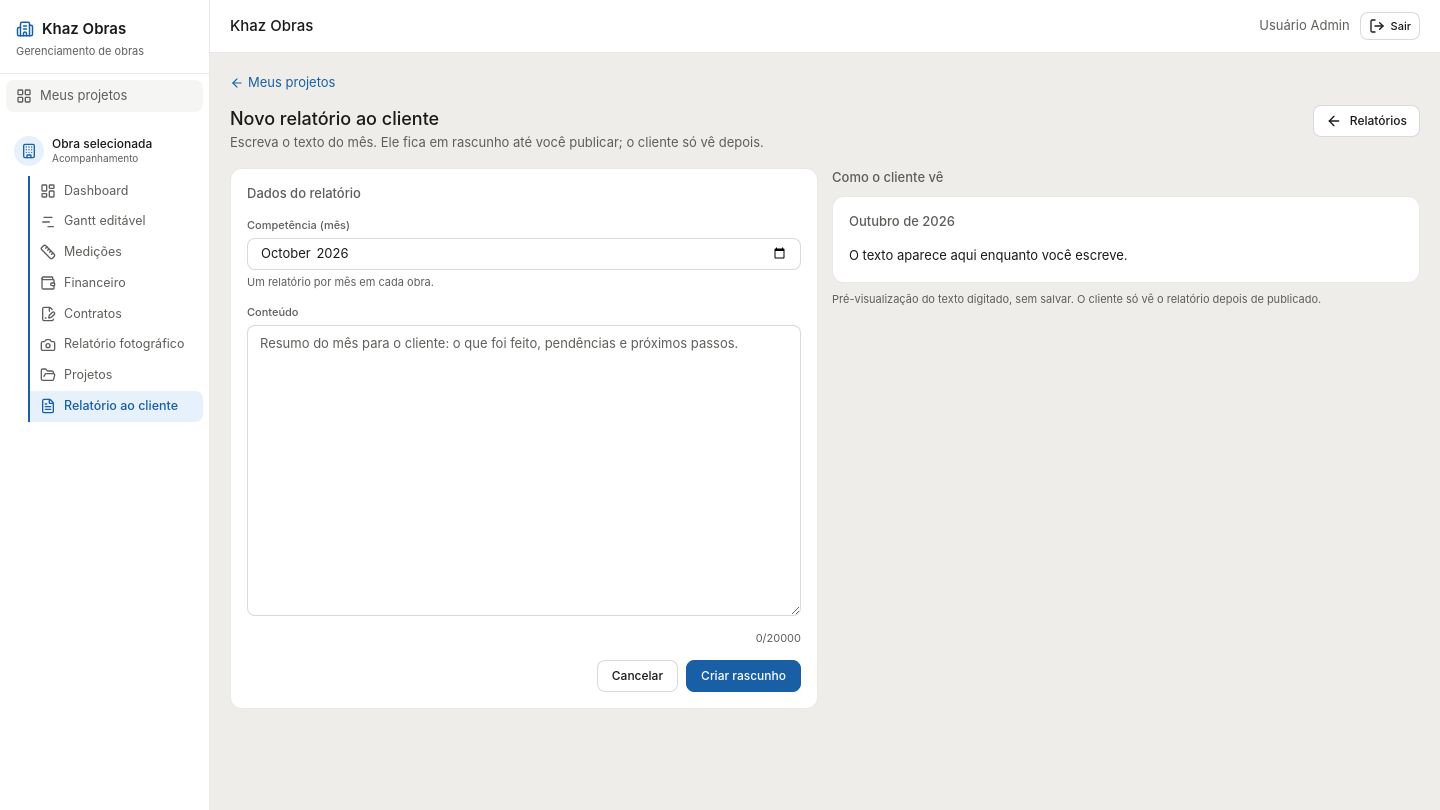
Relatório ao cliente (admin) - menu › o item do menu leva à lista a partir de outra tela da obra
Check: the text box labelled "Conteúdo" is shown, box [247,325,801,616]
Click the link "Relatório ao cliente" at (116, 406), box [30,391,203,422]
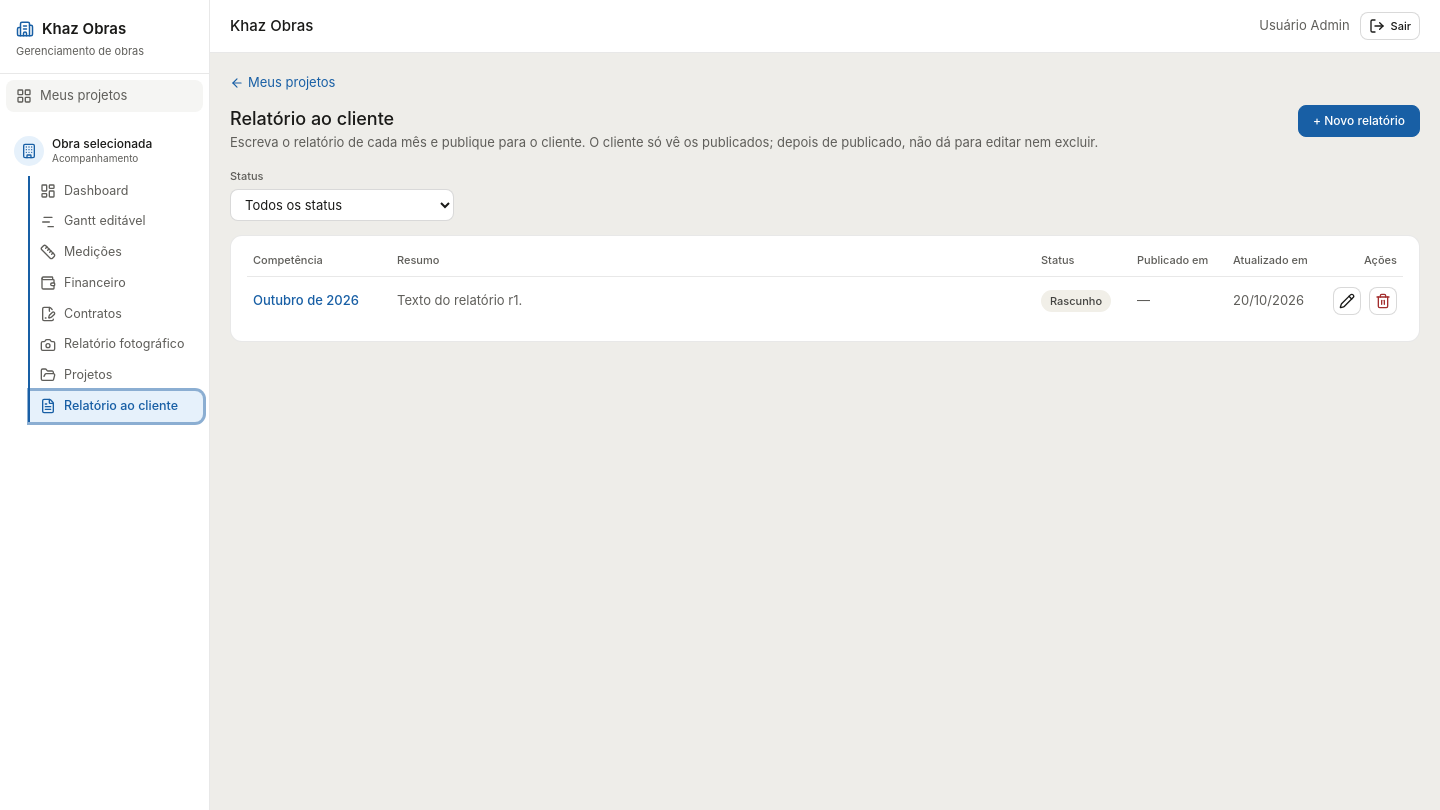
Check: the table is shown, box [247,252,1403,325]
